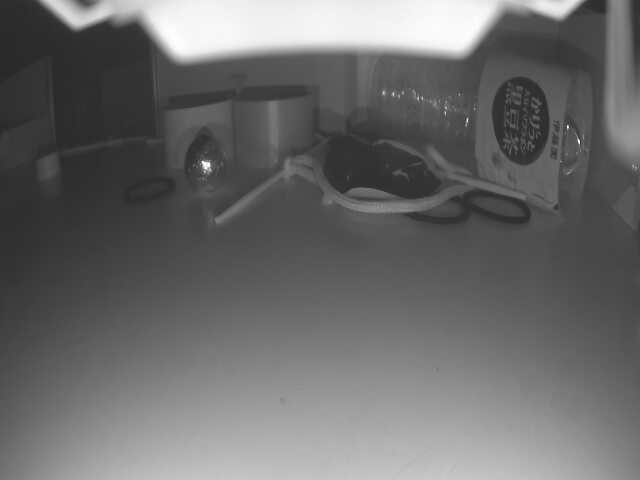Live: (181, 135, 227, 191)
Point: (0, 116, 48, 180)
